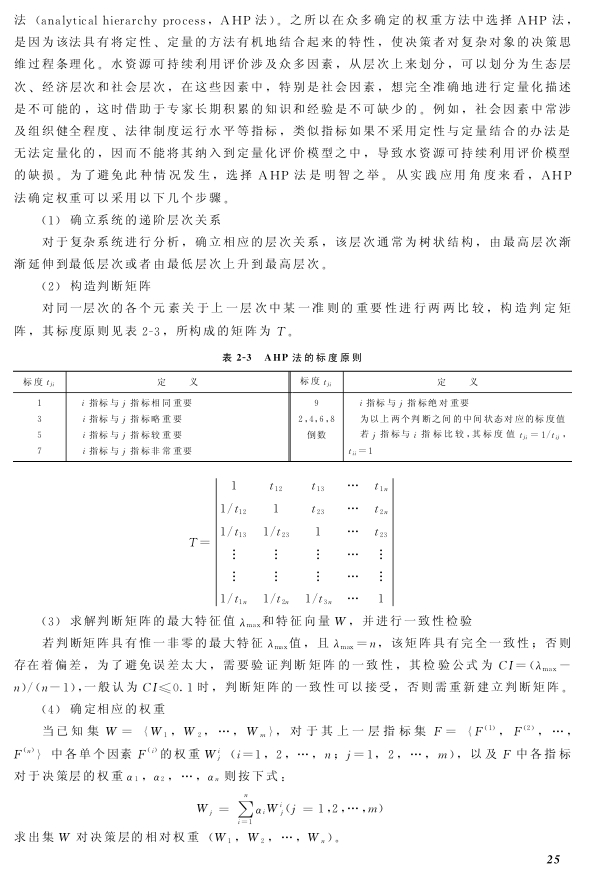table: (13, 371, 572, 462)
